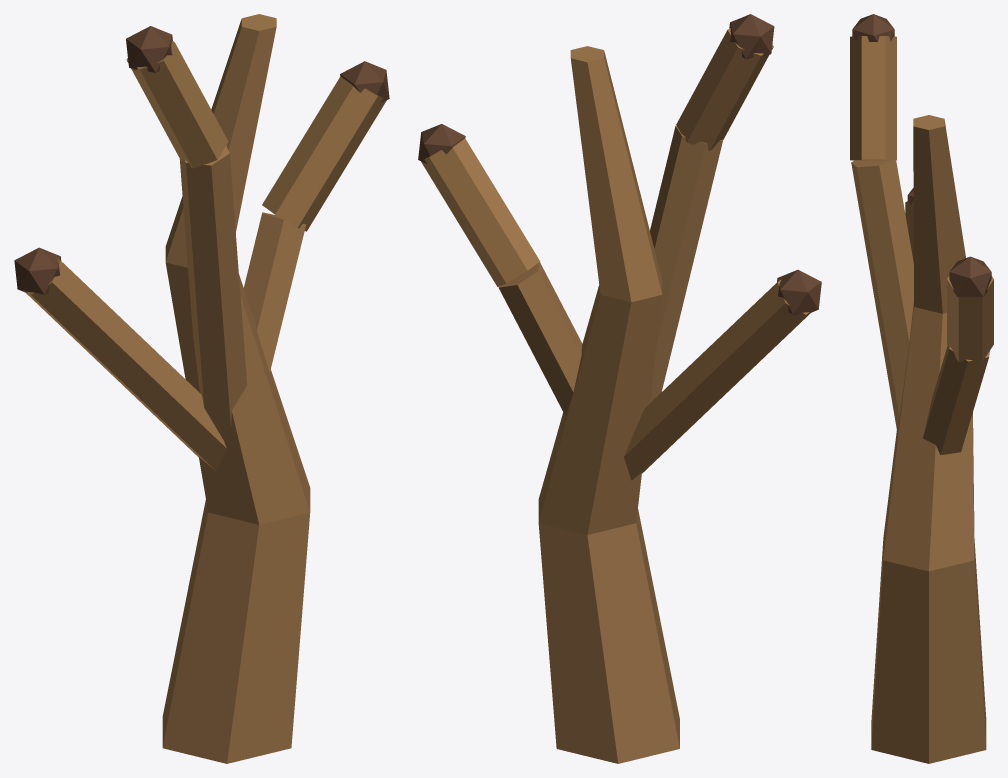
Rendered from PirateCove_DriftwoodTree_Simple.glb.
3 renders of one model, left to right at view 1: azimuth 30°, elevation 25°; view 2: azimuth 150°, elevation 25°; view 3: azimuth 270°, elevation 25°, orthographic. The views are drawn at different scales.
Parts seen in each view (by area): view 1: PirateCove_DriftwoodTree_Simple; view 2: PirateCove_DriftwoodTree_Simple; view 3: PirateCove_DriftwoodTree_Simple.
Boxes of the visible parts, <box> form: PirateCove_DriftwoodTree_Simple: <box>14,14,389,763</box>; PirateCove_DriftwoodTree_Simple: <box>418,14,821,763</box>; PirateCove_DriftwoodTree_Simple: <box>850,14,993,763</box>.
Size of the model in its own units: 1.46 by 2.69 by 0.52.
